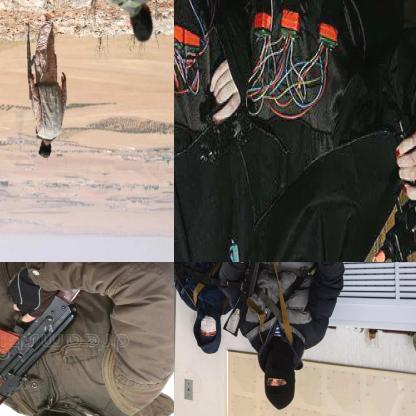pistol: (371, 143, 415, 261)
rifle: (0, 262, 118, 415), (222, 262, 284, 339), (19, 21, 37, 101), (174, 262, 227, 288)
